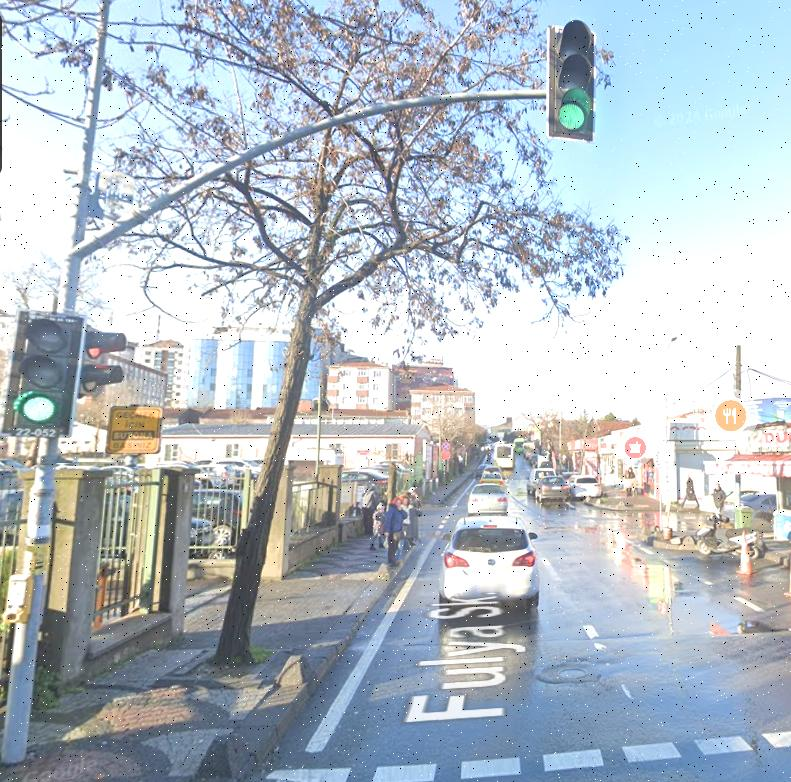greenlight: (9, 306, 75, 440), (553, 27, 590, 136)
